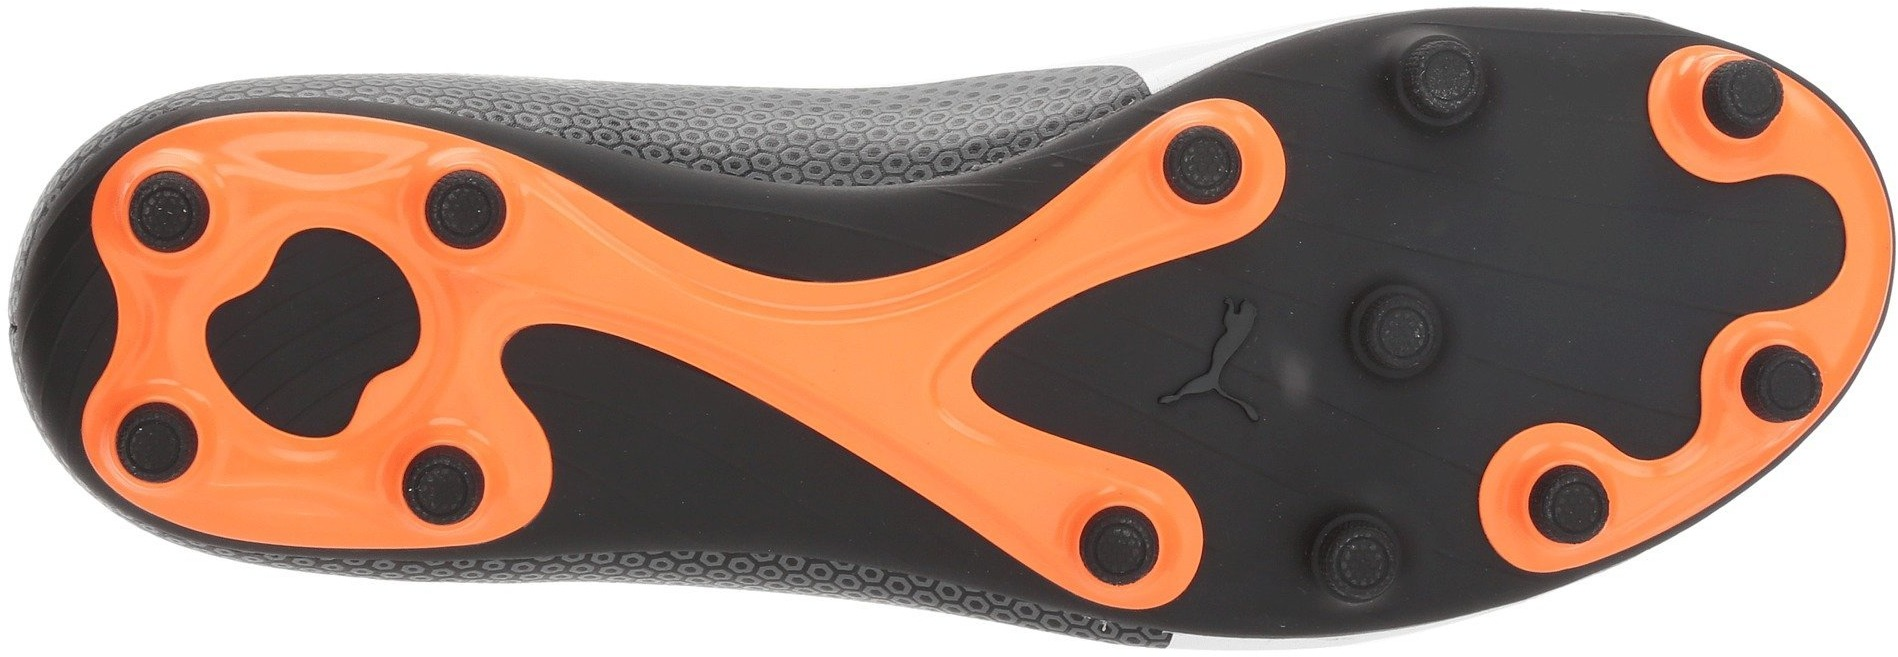circle: (1344, 278, 1453, 388), (1387, 29, 1497, 136), (1306, 513, 1413, 609), (420, 163, 517, 258), (1522, 457, 1620, 551), (393, 440, 496, 529), (1156, 119, 1249, 213), (110, 398, 205, 490), (1072, 498, 1164, 593), (123, 165, 215, 255), (1738, 340, 1830, 431), (1695, 53, 1787, 142)
other: (1471, 146, 1672, 341), (1132, 278, 1304, 446), (832, 318, 927, 407)
